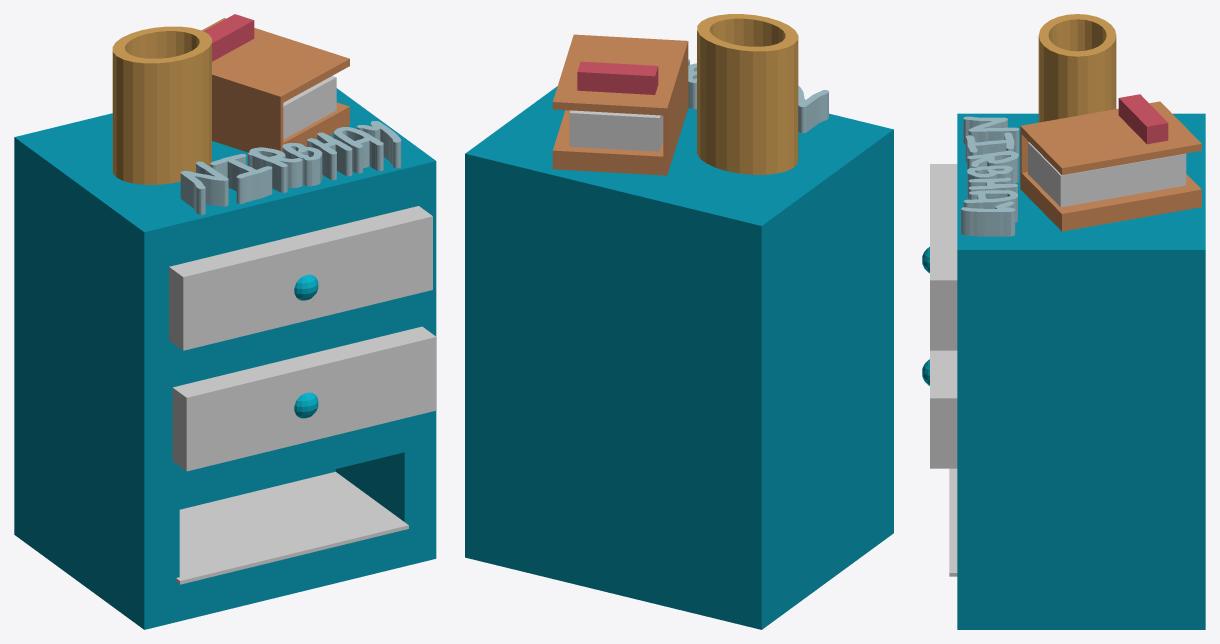
File: PRO-C149_ SIDE TABLE MODEL.glb
The picture shows the model from 3 angles, left to right: view 1: azimuth 30°, elevation 25°; view 2: azimuth 150°, elevation 25°; view 3: azimuth 270°, elevation 25°; orthographic projection. The views are drawn at different scales.
Visible parts, largest first — view 1: Mesh_Mesh_head_geo.001_lambert2SG.001; view 2: Mesh_Mesh_head_geo.001_lambert2SG.001; view 3: Mesh_Mesh_head_geo.001_lambert2SG.001.
Boxes of the visible parts, bbox=[...] form: Mesh_Mesh_head_geo.001_lambert2SG.001: bbox=[14, 14, 436, 629]; Mesh_Mesh_head_geo.001_lambert2SG.001: bbox=[465, 14, 893, 629]; Mesh_Mesh_head_geo.001_lambert2SG.001: bbox=[922, 14, 1205, 629].
Size of the model in its own units: 83 by 141 by 73.
